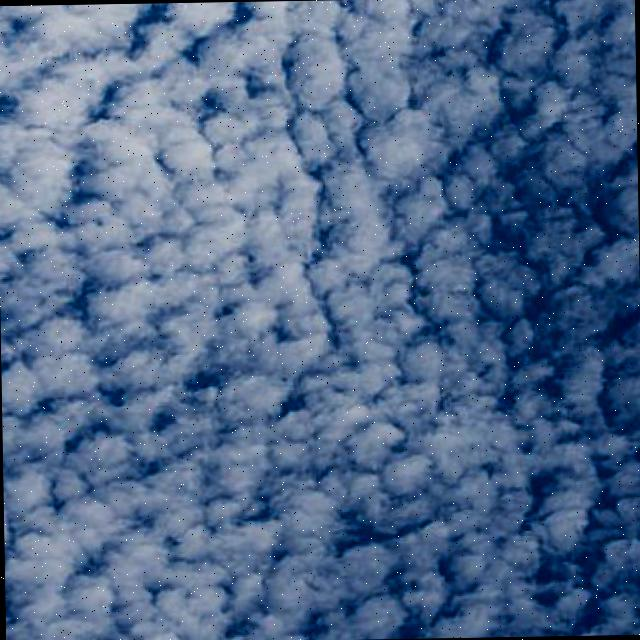Ac: (1, 2, 640, 577)
